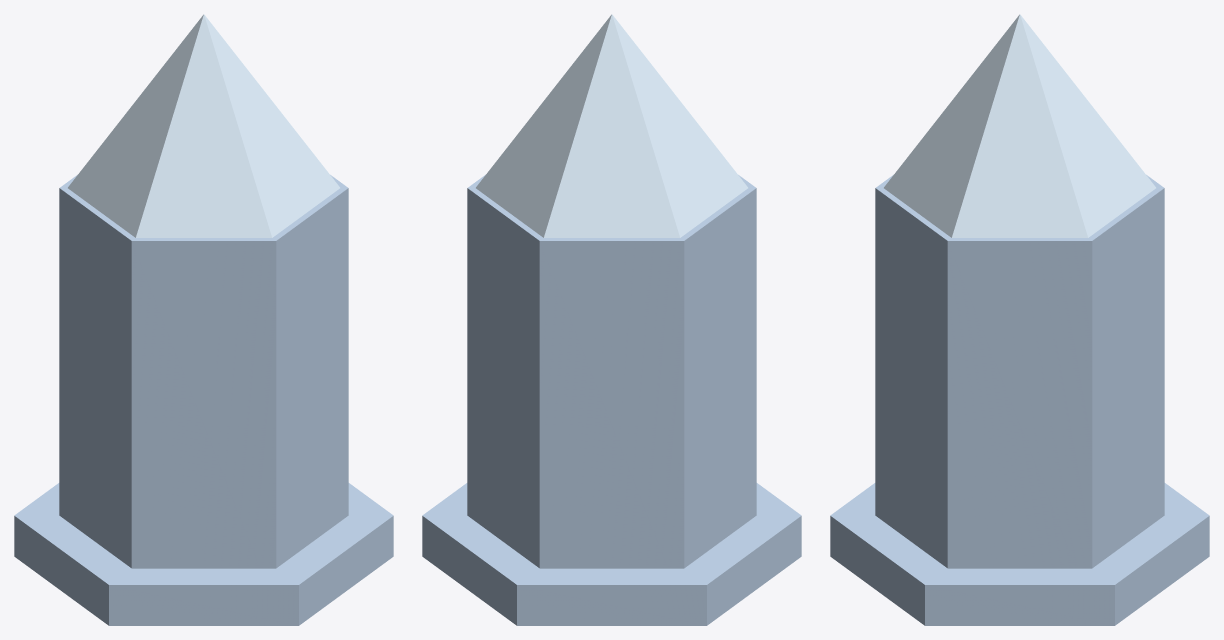
The model's file is CrystalNode.fbx.
3 views of the same model, side by side, from view 1: azimuth 30°, elevation 25°; view 2: azimuth 150°, elevation 25°; view 3: azimuth 270°, elevation 25° (orthographic).
Visible parts, largest first — view 1: CrystalNode_Prism, CrystalNode_Tip, CrystalNode_Plinth; view 2: CrystalNode_Prism, CrystalNode_Tip, CrystalNode_Plinth; view 3: CrystalNode_Prism, CrystalNode_Tip, CrystalNode_Plinth.
Boxes of the visible parts, box(x1,y1,x2,y2) form: CrystalNode_Prism: box(59, 175, 348, 568); CrystalNode_Tip: box(68, 14, 339, 237); CrystalNode_Plinth: box(14, 483, 393, 625); CrystalNode_Prism: box(467, 175, 756, 568); CrystalNode_Tip: box(476, 14, 747, 237); CrystalNode_Plinth: box(422, 483, 801, 625); CrystalNode_Prism: box(875, 175, 1164, 568); CrystalNode_Tip: box(884, 14, 1155, 237); CrystalNode_Plinth: box(830, 483, 1209, 625).
Bounding box in the file's own units: 1.1 × 2 × 1.27.
